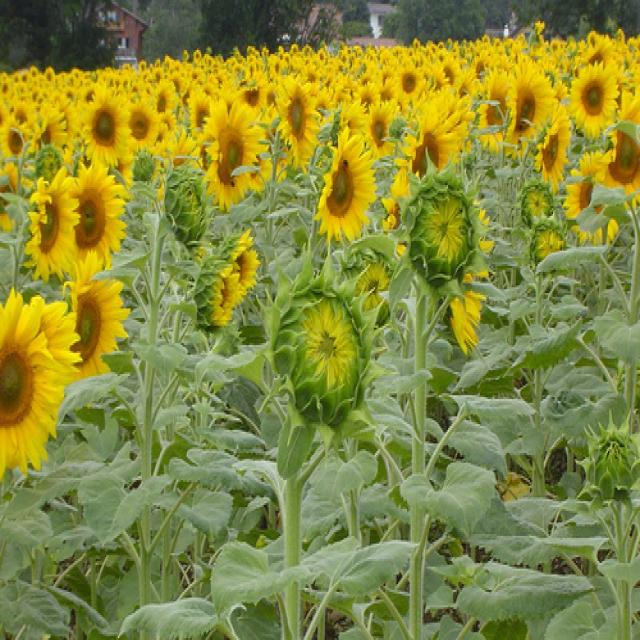sunflower: (266, 265, 380, 439), (0, 282, 83, 476), (402, 154, 482, 289), (60, 154, 127, 280), (62, 276, 130, 384), (320, 130, 378, 250), (21, 162, 76, 276), (561, 148, 618, 234), (208, 106, 252, 216), (502, 63, 556, 149), (273, 79, 323, 162), (567, 61, 617, 136), (192, 255, 238, 332), (85, 87, 131, 156), (534, 108, 573, 187), (478, 75, 506, 158), (365, 95, 404, 154), (122, 94, 158, 154), (392, 57, 424, 111), (0, 115, 26, 167), (150, 81, 178, 110)
